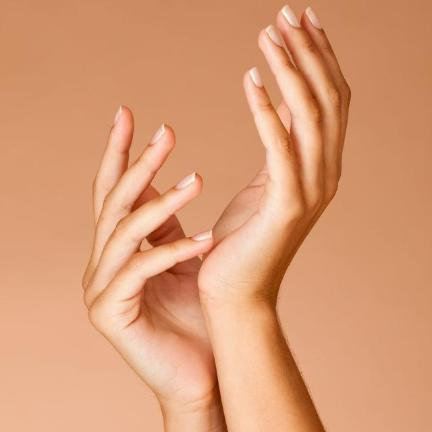Nail: (281, 3, 302, 29), (265, 23, 283, 46), (305, 6, 323, 28), (175, 171, 195, 189), (150, 123, 165, 145), (249, 66, 263, 87), (192, 229, 212, 241), (114, 103, 122, 125)
